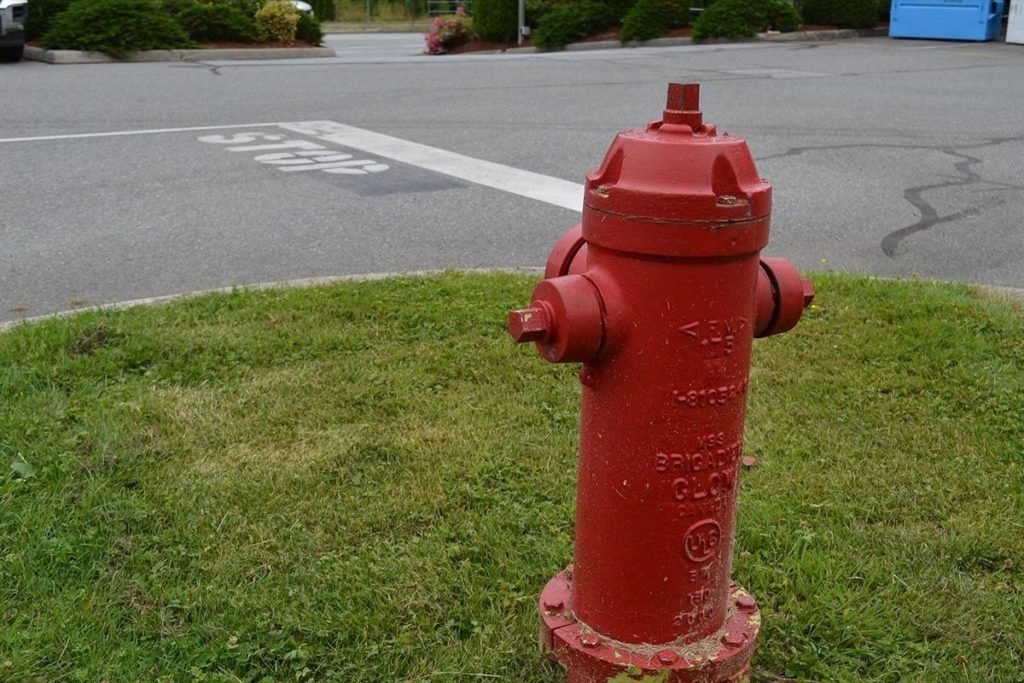firehdyrant: (494, 77, 810, 675)
